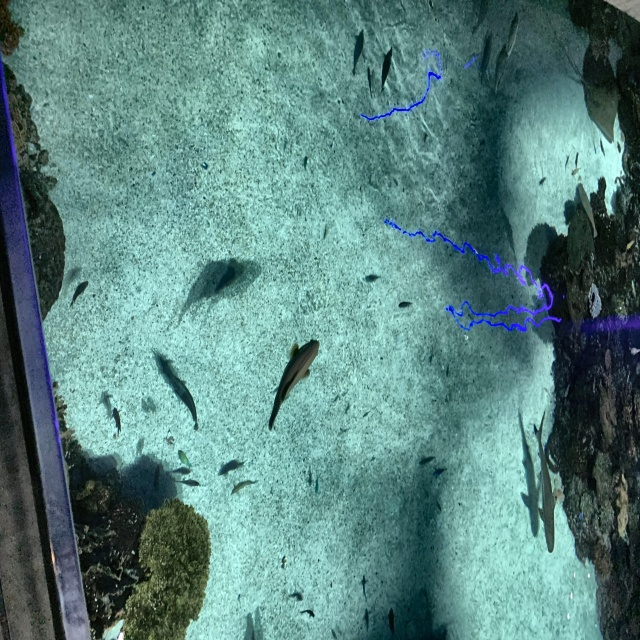fish: (265, 335, 322, 434), (169, 376, 201, 434), (376, 46, 394, 96), (478, 32, 494, 87), (504, 12, 522, 60), (492, 43, 507, 97), (68, 279, 90, 311), (227, 477, 259, 498), (217, 265, 236, 289), (385, 604, 398, 639), (109, 406, 123, 438), (176, 448, 194, 472), (352, 31, 362, 74), (431, 463, 449, 480), (174, 479, 201, 488), (598, 137, 607, 160), (396, 300, 413, 312), (302, 155, 310, 173), (571, 166, 583, 178), (537, 176, 548, 188), (615, 140, 622, 156)
shark: (533, 410, 558, 553)
